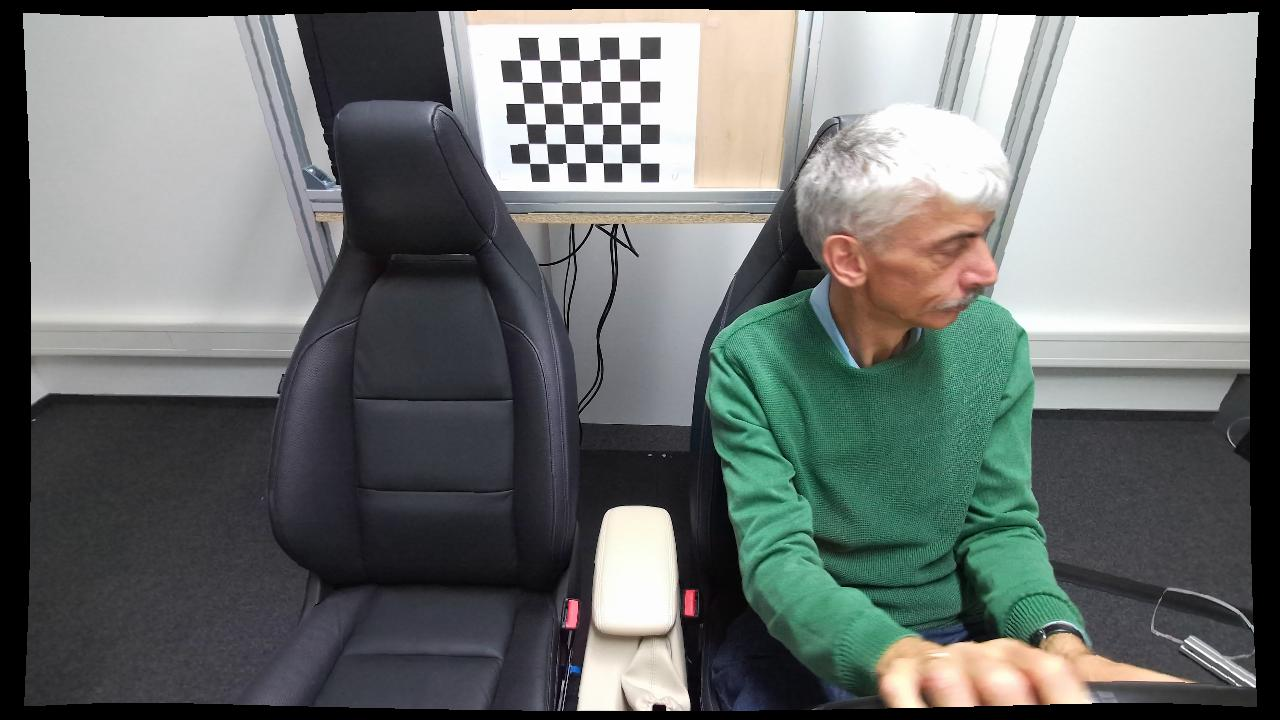Distracted: (705, 99, 1114, 707)
